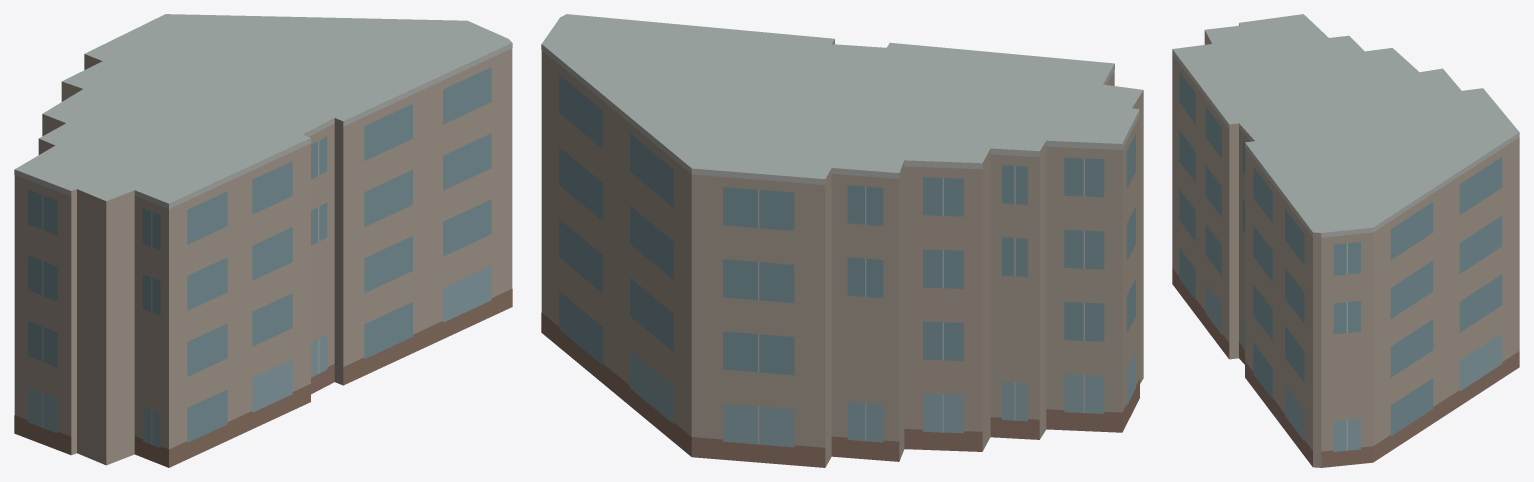
The model's file is survey-upis-32771975.glb.
The picture shows the model from 3 angles, left to right: view 1: azimuth 30°, elevation 25°; view 2: azimuth 150°, elevation 25°; view 3: azimuth 270°, elevation 25°; orthographic projection. The views are drawn at different scales.
Parts seen in each view (by area): view 1: survey-upis-32771975.tmp; view 2: survey-upis-32771975.tmp; view 3: survey-upis-32771975.tmp.
Part boxes in pixels (x1,y1,x2,y2): survey-upis-32771975.tmp: (14, 14, 512, 467); survey-upis-32771975.tmp: (541, 14, 1143, 467); survey-upis-32771975.tmp: (1172, 14, 1519, 467).
Size of the model in its own units: 23.59 by 11.8 by 15.82.
